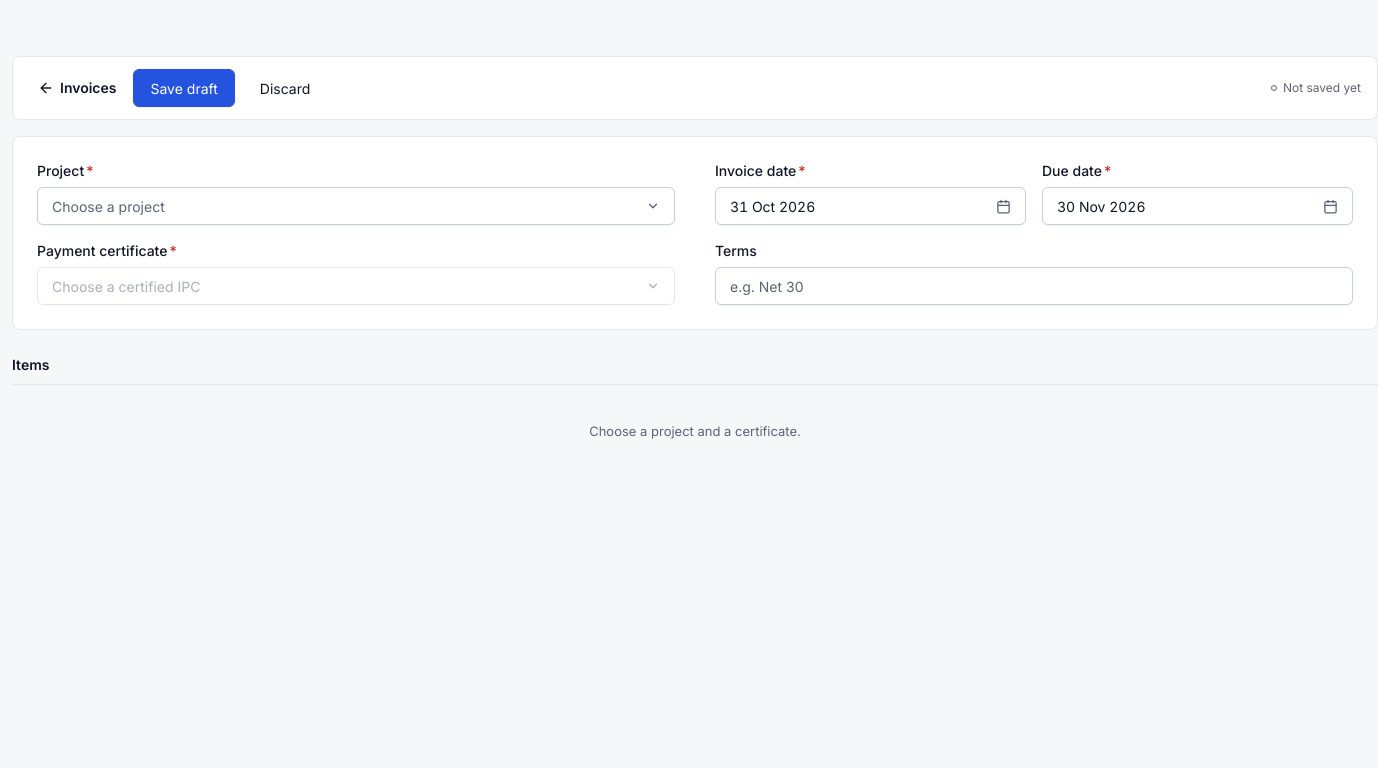
Test case: InvoiceCreate › blocks saving and names every missing field
What coordinates should you click on to do the following:
click the button "Save draft"
I would click on:
 (184, 88)
Its box is [134,69,235,107].
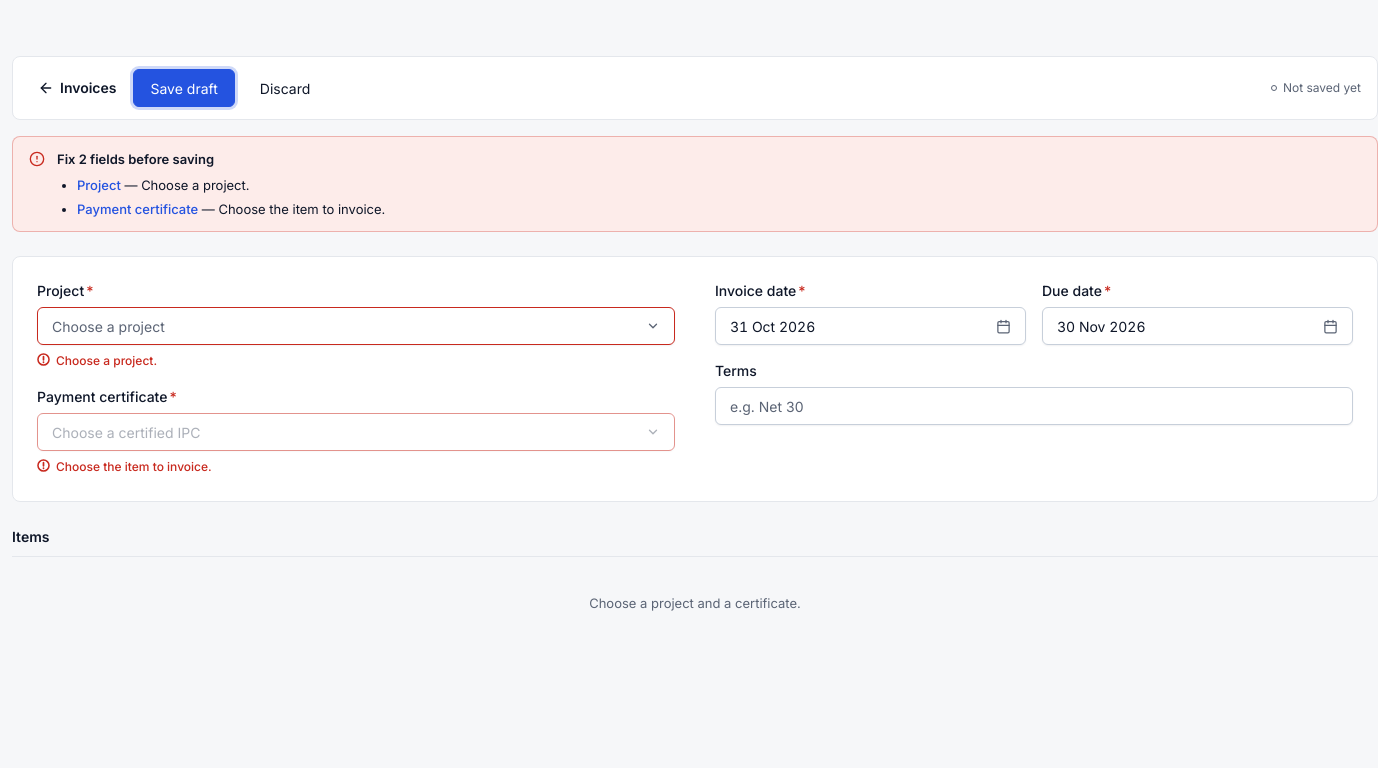
Expected: the text "Fix 2 fields before saving" is shown, [57,151,214,167]
